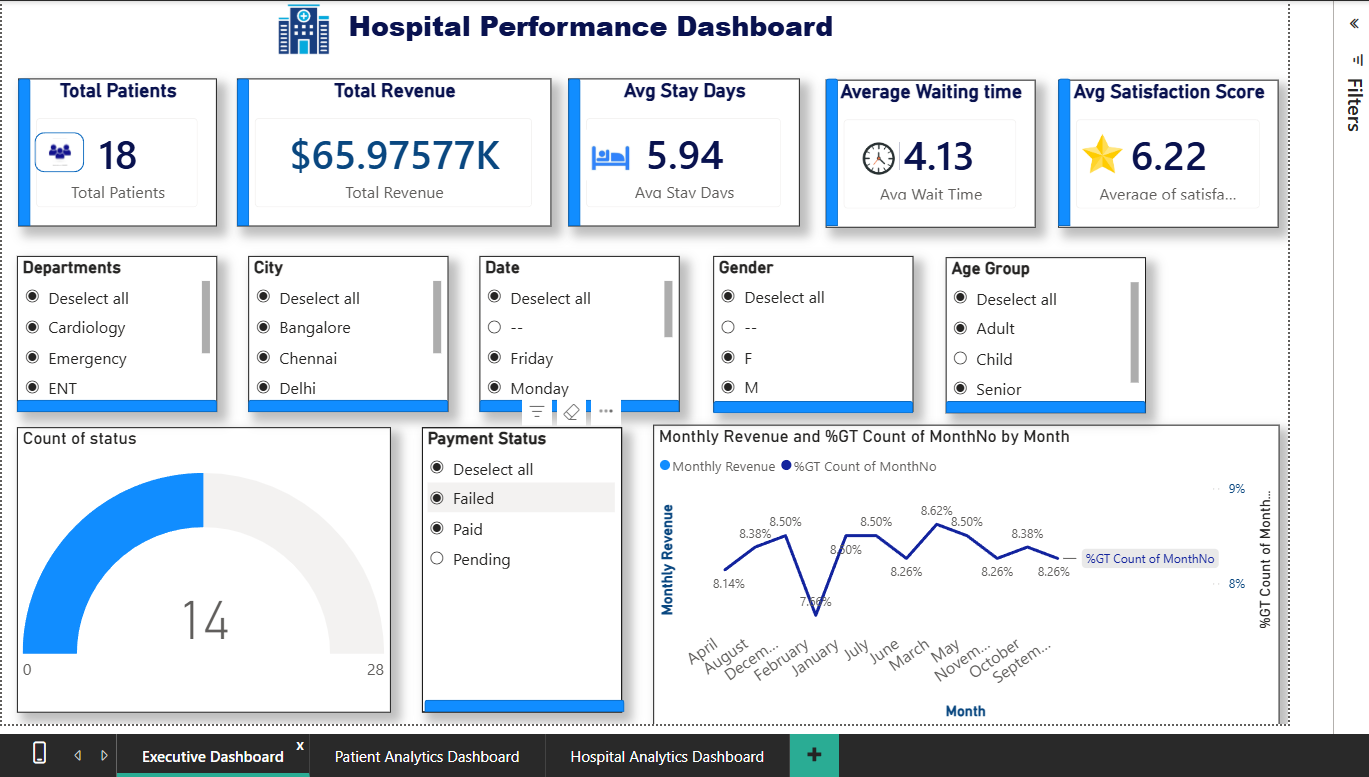

Layout of this report page (visuals, bound fields, positions):
{"tool":"powerbi","page":{"name":"Executive Dashboard","canvas":[1280,720],"ordinal":0},"visuals":[{"type":"textbox","box":[171.5,0,828.8,63.1],"z":0},{"type":"cardVisual","title":"Total Patients","fields":{"Data":["patients.Total Patients"]},"box":[16.5,76.8,197.6,146.8],"z":1000},{"type":"bookmarkNavigator","box":[0,0,600,50],"z":2000},{"type":"actionButton","box":[39.8,130.4,35.7,39.8],"z":3000},{"type":"shape","box":[32.9,130.4,49.4,39.8],"z":4000},{"type":"cardVisual","title":"Total Revenue ","fields":{"Data":["billing.Total Revenue"]},"box":[233.3,76.8,312.9,146.8],"z":5000},{"type":"shape","box":[16.5,76.8,12.3,146.8],"z":6000},{"type":"shape","box":[233.3,76.8,12.3,146.8],"z":7000},{"type":"lineChart","fields":{"Category":["DateTable.Month"],"Y":["DateTable.Monthly Revenue"],"Y2":["CountNonNull(DateTable.MonthNo)"]},"box":[647.7,421.3,623,299.1],"z":8000},{"type":"cardVisual","title":"Avg Stay Days","fields":{"Data":["patients.Avg Stay Days"]},"box":[564,76.8,230.5,146.8],"z":9000},{"type":"shape","box":[564,76.8,12.3,146.8],"z":10000},{"type":"cardVisual","title":"Average Waiting time ","fields":{"Data":["appointments.Avg Wait Time"]},"box":[819.2,78.2,208.6,146.8],"z":11000},{"type":"shape","box":[819.2,76.8,12.3,146.8],"z":12000},{"type":"cardVisual","title":"Avg Satisfaction Score ","fields":{"Data":["Avg(patients.satisfaction_score)"]},"box":[1051.1,78.2,219.6,146.8],"z":13000},{"type":"gauge","fields":{"Y":["CountNonNull(treatments.status)"]},"box":[15.1,424,371.9,284],"z":14000},{"type":"shape","box":[1051.1,76.8,12.3,146.8],"z":15000},{"type":"listSlicer","title":"Departments","fields":{"Values":["patients.department"]},"box":[15.1,253.9,199,155.1],"z":16000},{"type":"listSlicer","title":"City","fields":{"Values":["patients.city"]},"box":[245.6,253.9,199,155.1],"z":17000},{"type":"listSlicer","title":"Date","fields":{"Values":["DateTable.Day"]},"box":[474.8,253.9,199,155.1],"z":18000},{"type":"shape","box":[474.8,396.6,199,12.3],"z":19000},{"type":"shape","box":[245.6,396.6,199,12.3],"z":20000},{"type":"shape","box":[15.1,396.6,199,12.3],"z":21000},{"type":"listSlicer","title":"Gender","fields":{"Values":["patients.gender"]},"box":[708.1,253.9,199,155.1],"z":22000},{"type":"shape","box":[708.1,397.9,199,12.3],"z":23000},{"type":"listSlicer","title":"Age Group","fields":{"Values":["patients.Age Group"]},"box":[938.6,255.2,199,155.1],"z":24000},{"type":"shape","box":[938.6,397.9,199,12.3],"z":25000},{"type":"listSlicer","title":"Payment Status ","fields":{"Values":["billing.payment_status"]},"box":[418.5,424,199,284],"z":26000},{"type":"shape","box":[419.9,695.7,199,12.3],"z":27000},{"type":"image","box":[572.2,127.6,67.2,50.8],"z":28000},{"type":"image","box":[1074.4,130.4,41.2,42.5],"z":29000},{"type":"image","box":[852.1,135.8,41.2,42.5],"z":30000},{"type":"image","box":[269,0,63.1,56.3],"z":31000}]}

Visuals, with their boxes in screenshot pixels (x1, y1, x2, y2):
textbox: l=167, t=0, r=1011, b=64
"Total Patients" cardVisual: l=10, t=78, r=211, b=227
bookmarkNavigator: l=0, t=0, r=603, b=51
actionButton: l=33, t=133, r=70, b=173
shape: l=26, t=133, r=77, b=173
"Total Revenue " cardVisual: l=230, t=78, r=549, b=227
shape: l=10, t=78, r=22, b=227
shape: l=230, t=78, r=243, b=227
lineChart - DateTable.Month x DateTable.Monthly Revenue: l=652, t=429, r=1286, b=733
"Avg Stay Days" cardVisual: l=567, t=78, r=801, b=227
shape: l=567, t=78, r=579, b=227
"Average Waiting time " cardVisual: l=826, t=80, r=1039, b=229
shape: l=826, t=78, r=839, b=227
"Avg Satisfaction Score " cardVisual: l=1062, t=80, r=1286, b=229
gauge - CountNonNull(treatments.status): l=8, t=431, r=387, b=720
shape: l=1062, t=78, r=1075, b=227
"Departments" listSlicer: l=8, t=258, r=211, b=416
"City" listSlicer: l=243, t=258, r=445, b=416
"Date" listSlicer: l=476, t=258, r=678, b=416
shape: l=476, t=403, r=678, b=416
shape: l=243, t=403, r=445, b=416
shape: l=8, t=403, r=211, b=416
"Gender" listSlicer: l=713, t=258, r=916, b=416
shape: l=713, t=405, r=916, b=417
"Age Group" listSlicer: l=948, t=260, r=1150, b=417
shape: l=948, t=405, r=1150, b=417
"Payment Status " listSlicer: l=419, t=431, r=621, b=720
shape: l=420, t=708, r=623, b=720
image: l=575, t=130, r=643, b=181
image: l=1086, t=133, r=1128, b=176
image: l=860, t=138, r=902, b=181
image: l=267, t=0, r=331, b=57
